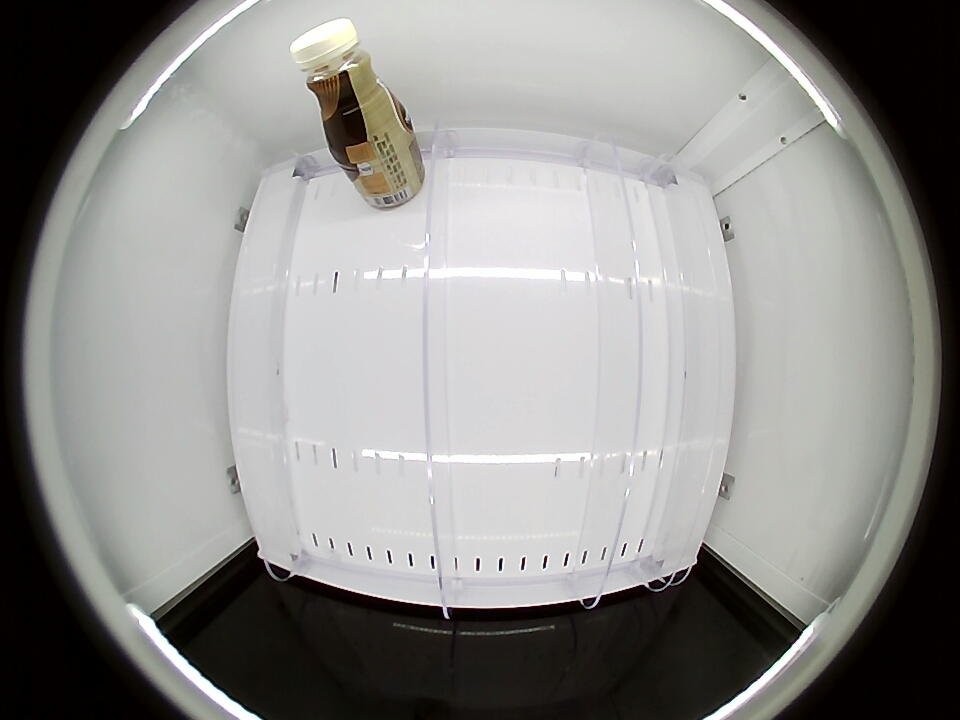kafei: (290, 17, 403, 137)
